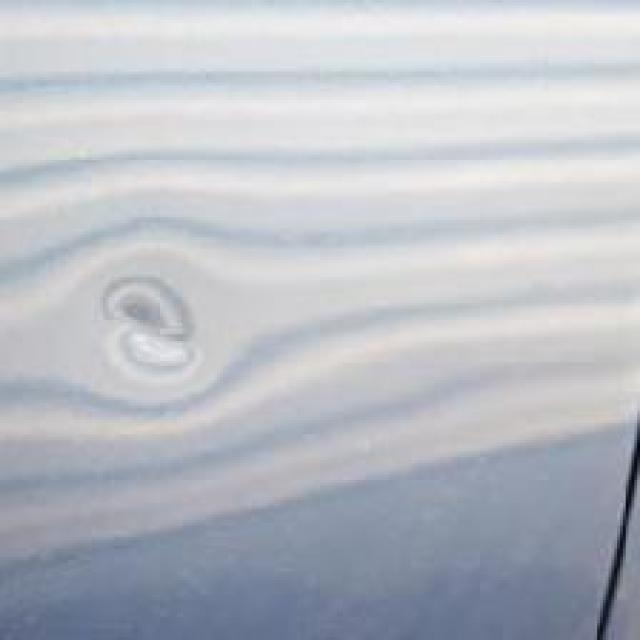door_dent_minor: (43, 237, 240, 420)
